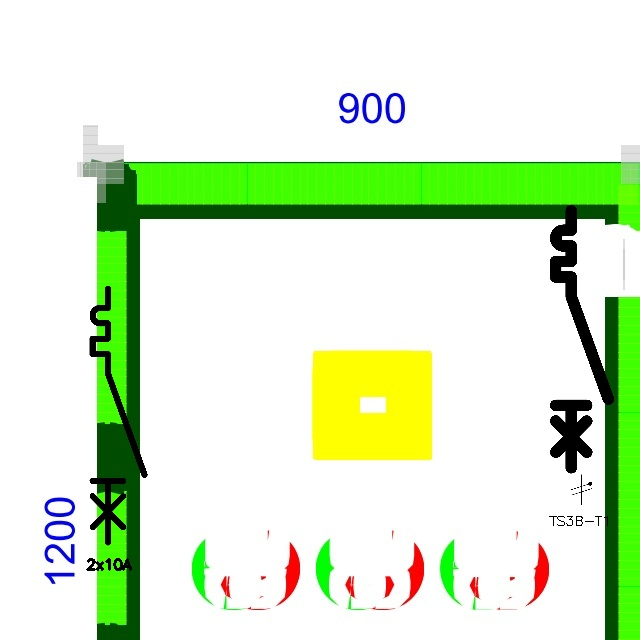interruptor_termomagnetico: (549, 204, 615, 474), (86, 282, 151, 549)
